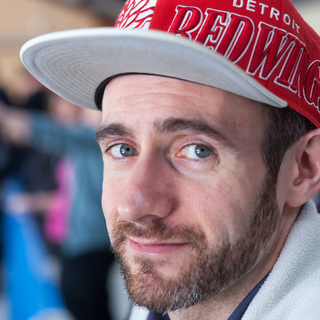eye: (175, 139, 221, 165), (101, 138, 143, 164)
